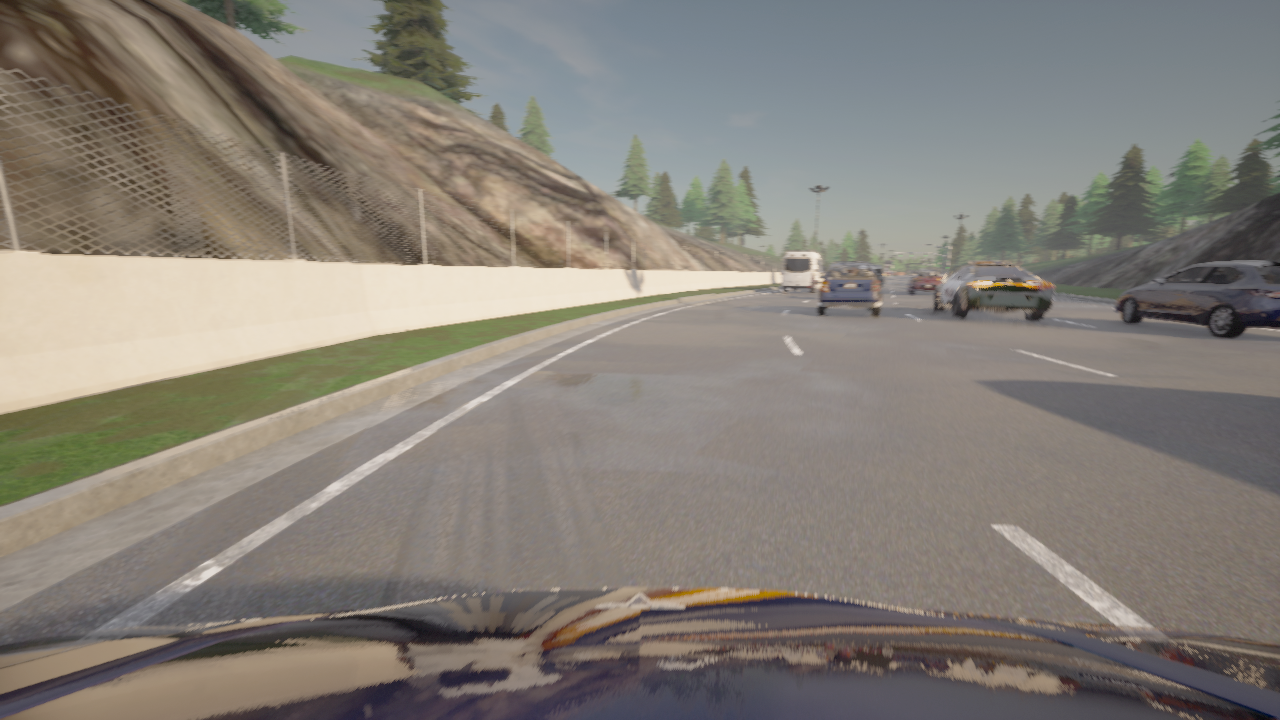cyclist: (0, 588, 1279, 719), (1115, 262, 1279, 337), (933, 262, 1054, 320), (818, 262, 881, 316), (781, 251, 825, 293), (908, 270, 942, 294), (871, 264, 884, 287)
